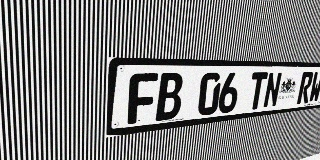0: (197, 73, 222, 116)
6: (217, 72, 241, 114)
B: (156, 73, 184, 121)
F: (127, 73, 158, 124)
N: (263, 72, 282, 108)
R: (297, 72, 314, 104)
T: (247, 72, 268, 110)
W: (308, 72, 320, 103)
